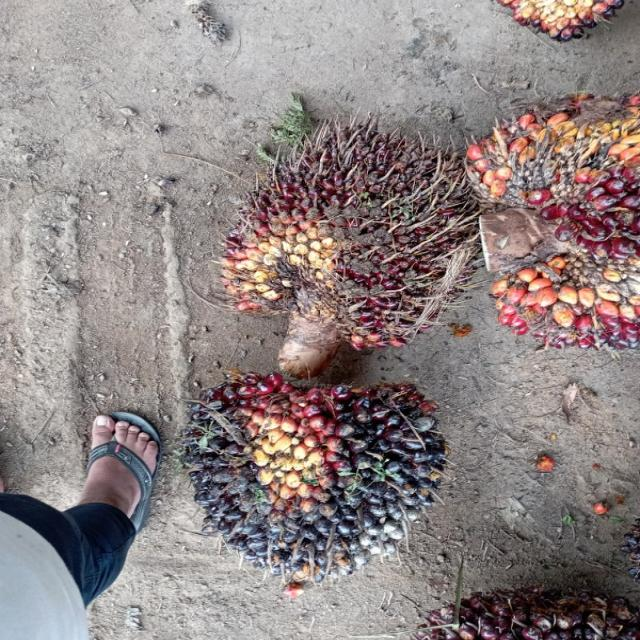fraksi 00: (180, 383, 457, 582)
fraksi 1: (217, 111, 458, 352)
fraksi 3: (469, 93, 640, 351)
